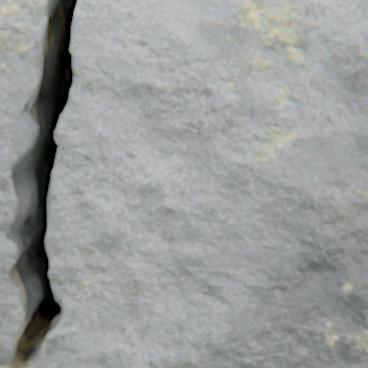brick: (31, 0, 367, 367), (0, 0, 48, 365)
crack: (1, 0, 79, 367)
